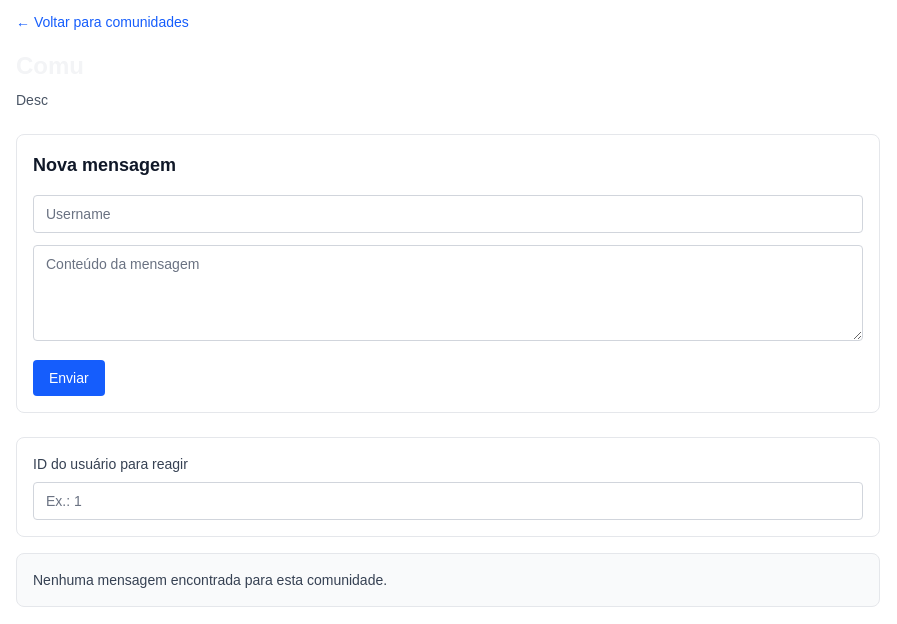
CommunityTimelinePage › should show an error when creating a message fails
Expected: the text "Nenhuma mensagem encontrada para esta comunidade." is shown, left=16, top=553, right=880, bottom=607
Type "alice" into the field with placeholder "Username". click: (448, 214)
box: left=33, top=195, right=863, bottom=233
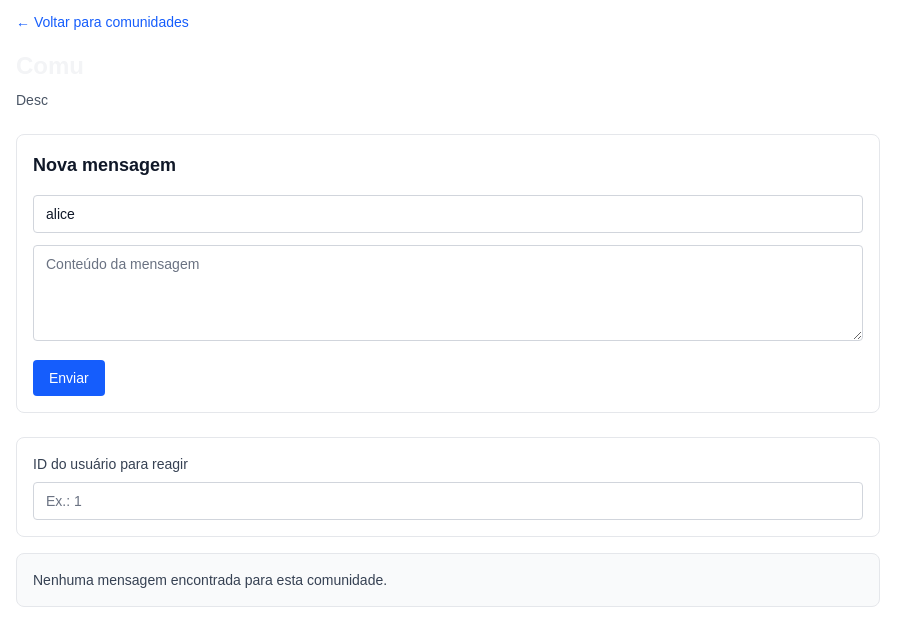
Type "Oops" into the text box with placeholder "Conteúdo da mensagem". click: (448, 293)
box: left=33, top=245, right=863, bottom=341
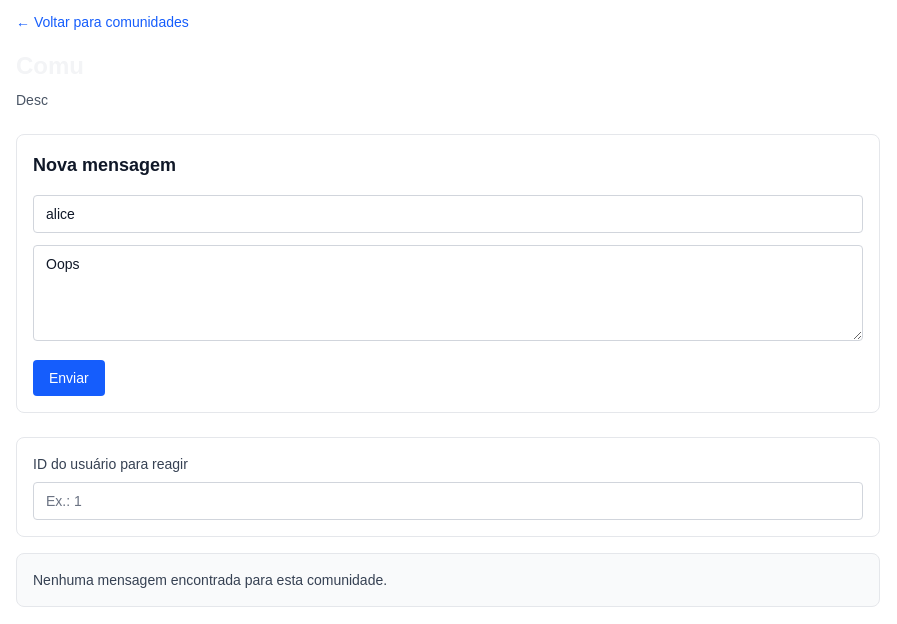
Click the button "Enviar". click: click(69, 378)
box: left=33, top=360, right=105, bottom=396
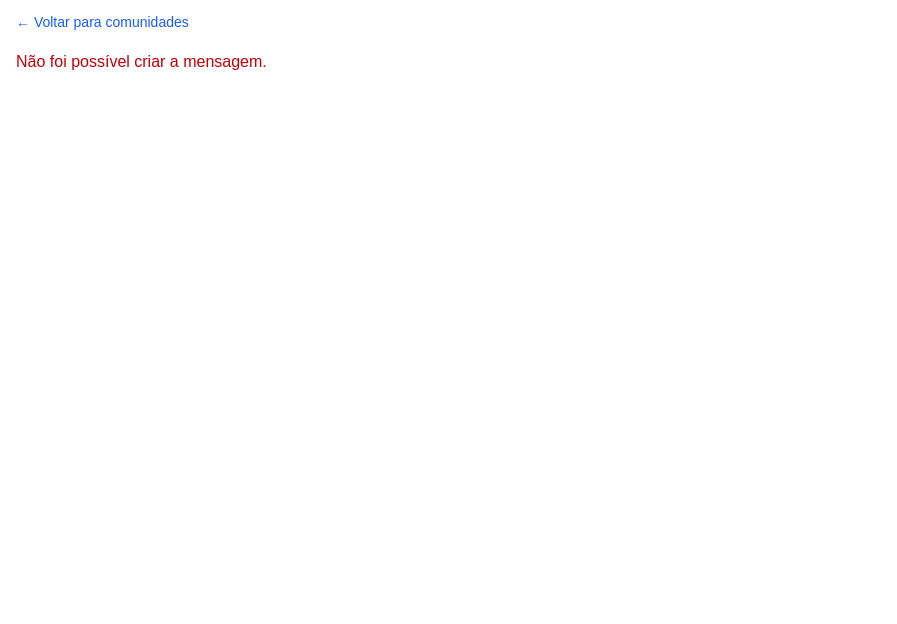
Expected: the text "Não foi possível criar a mensagem." is shown, left=16, top=53, right=267, bottom=70
